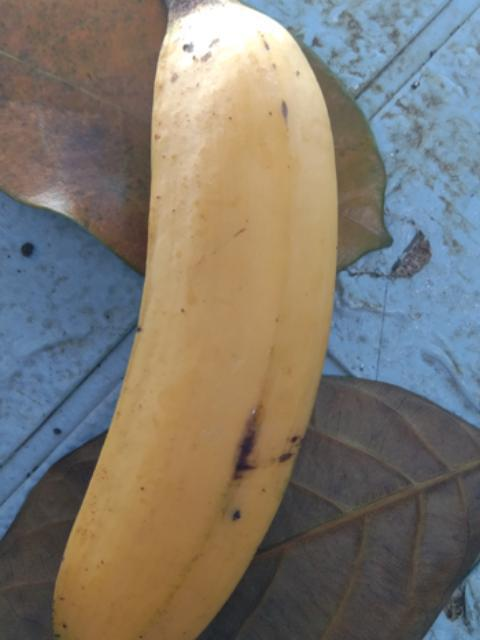freshripe: (22, 7, 353, 639)
